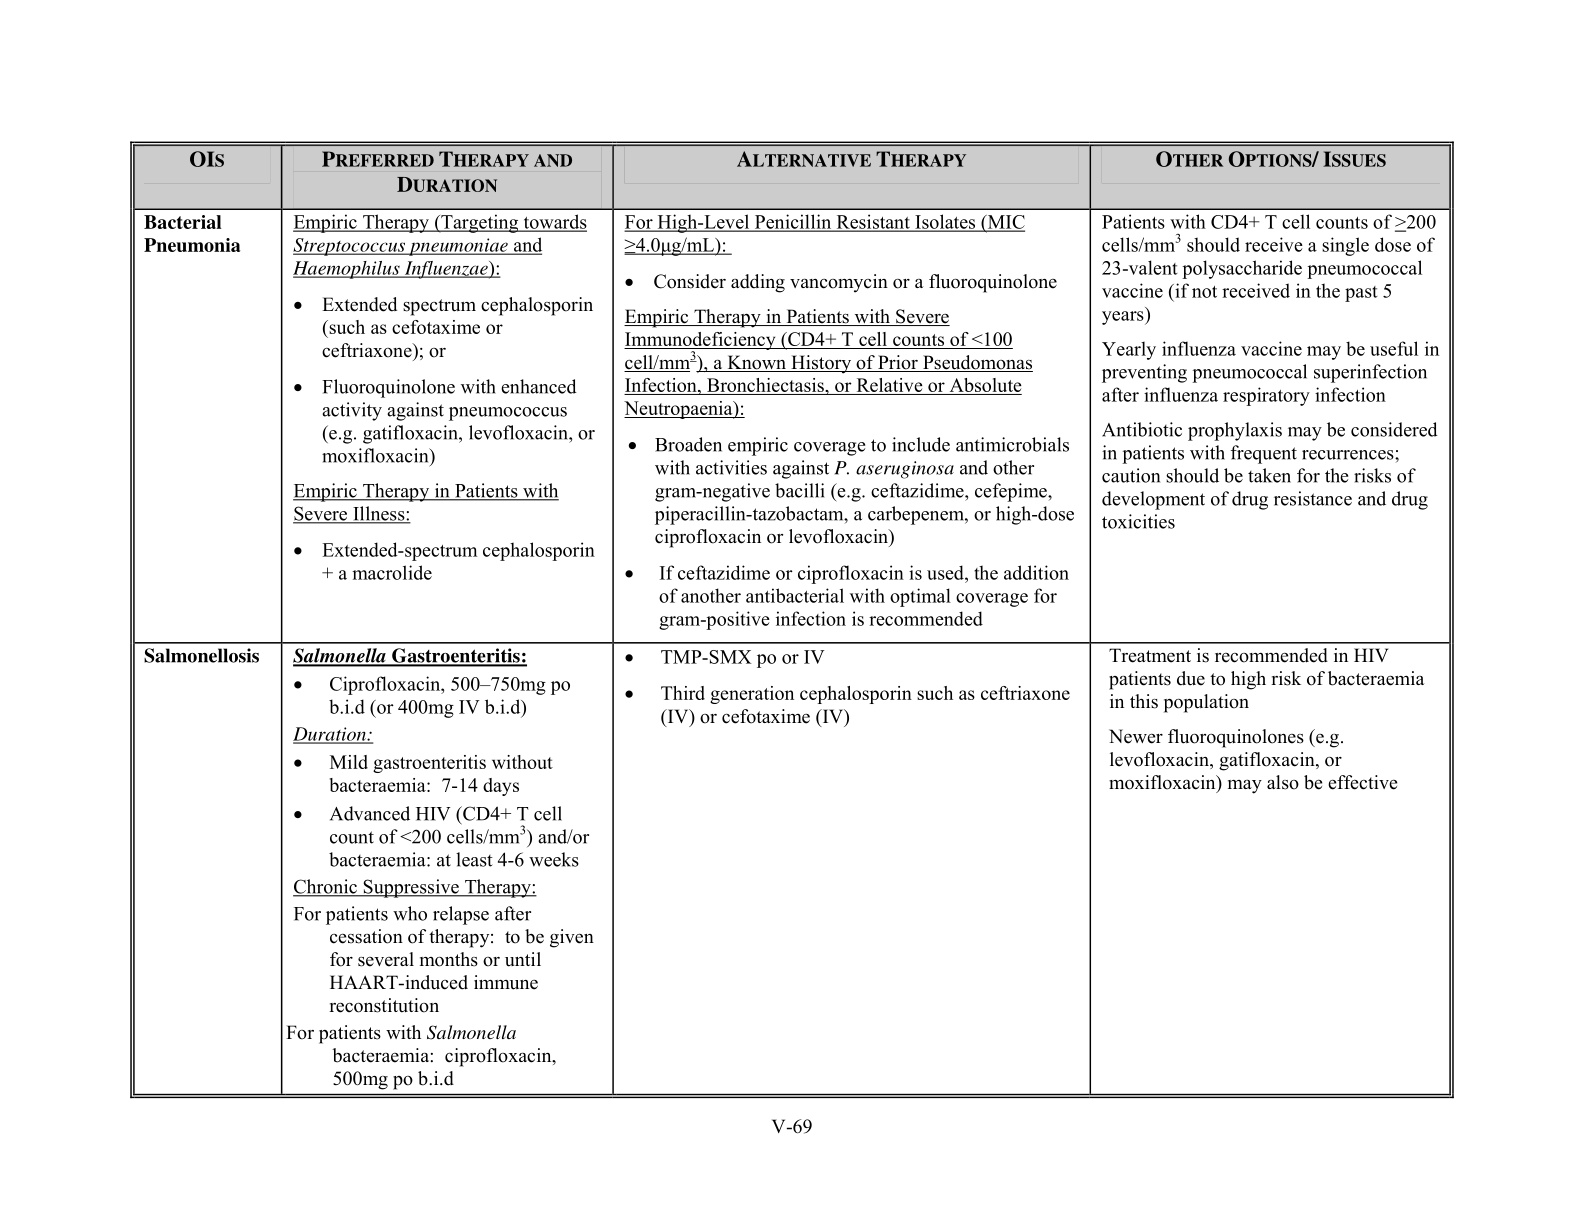full_lined: (130, 141, 1455, 1101)
